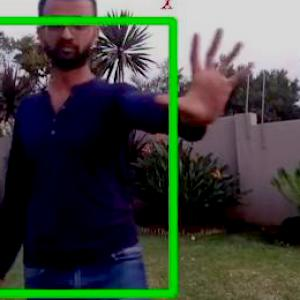follow_hand: (156, 21, 260, 128)
